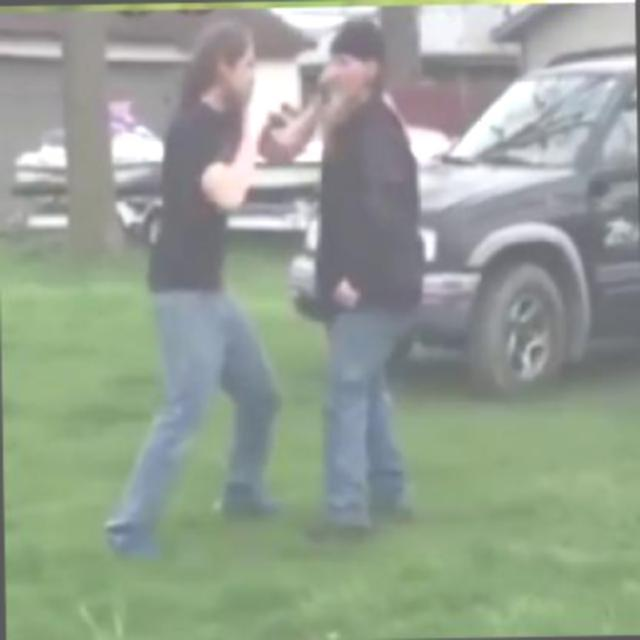non-fight: (146, 22, 276, 533), (302, 20, 424, 531)
